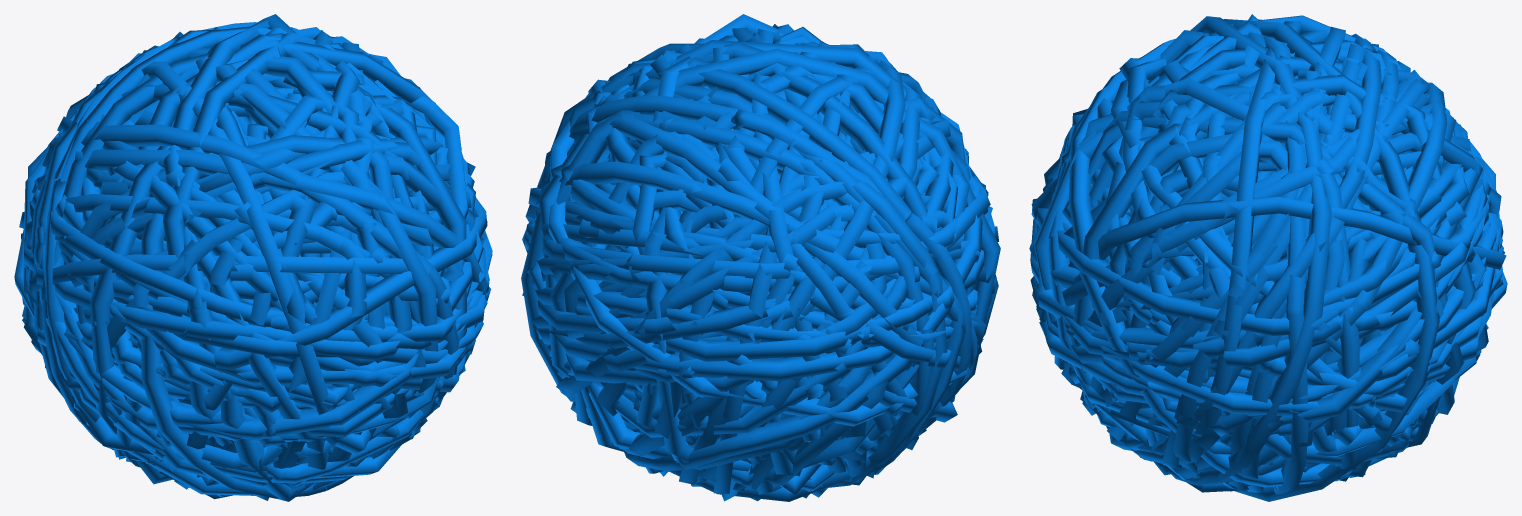
File: BallOYarn_Blu.fbx
The picture shows the model from 3 angles, left to right: view 1: azimuth 30°, elevation 25°; view 2: azimuth 150°, elevation 25°; view 3: azimuth 270°, elevation 25°; orthographic projection.
Visible parts, largest first — view 1: BallOYarn_Blu; view 2: BallOYarn_Blu; view 3: BallOYarn_Blu.
Part boxes in pixels (left/top/right/bottom): BallOYarn_Blu: left=14, top=14, right=492, bottom=501; BallOYarn_Blu: left=521, top=14, right=1000, bottom=501; BallOYarn_Blu: left=1029, top=14, right=1507, bottom=501.
Size of the model in its own units: 218 by 221 by 217.
